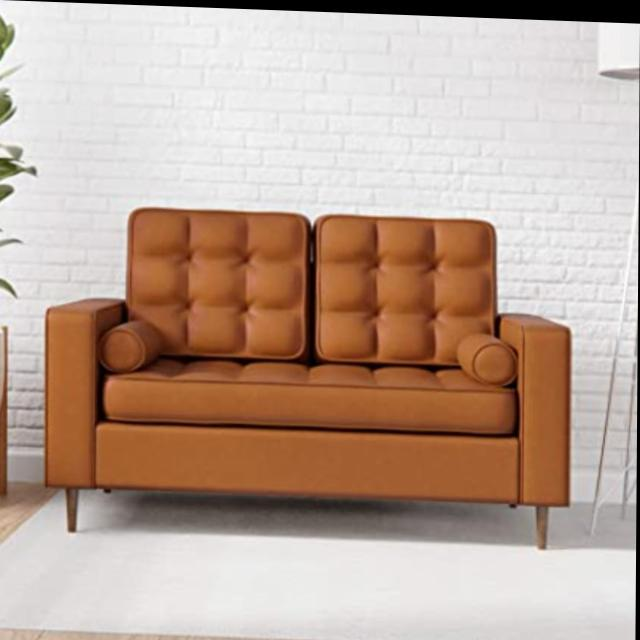Sofa: (44, 201, 574, 546)
